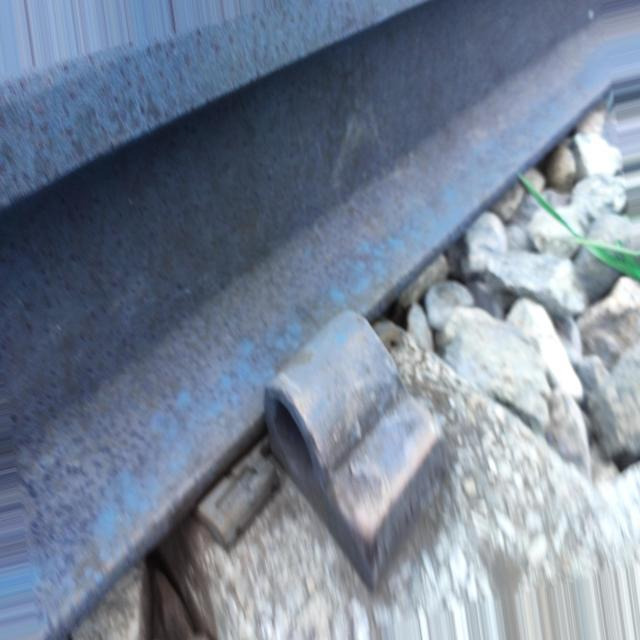Missing Fastener: (235, 301, 482, 593)
